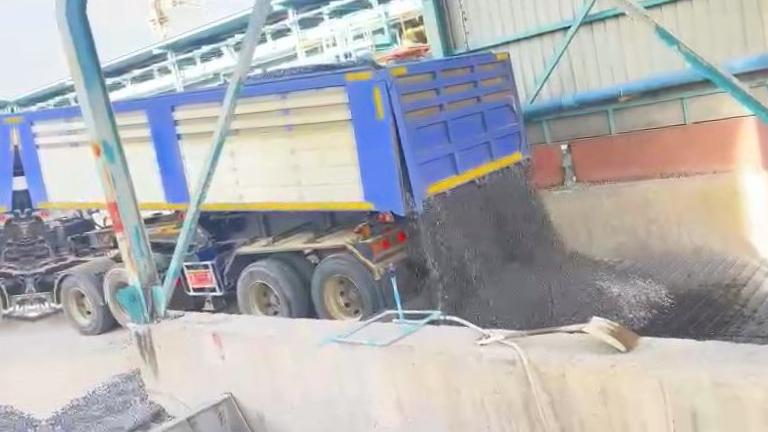gravel: (417, 164, 663, 327), (44, 371, 166, 432)
